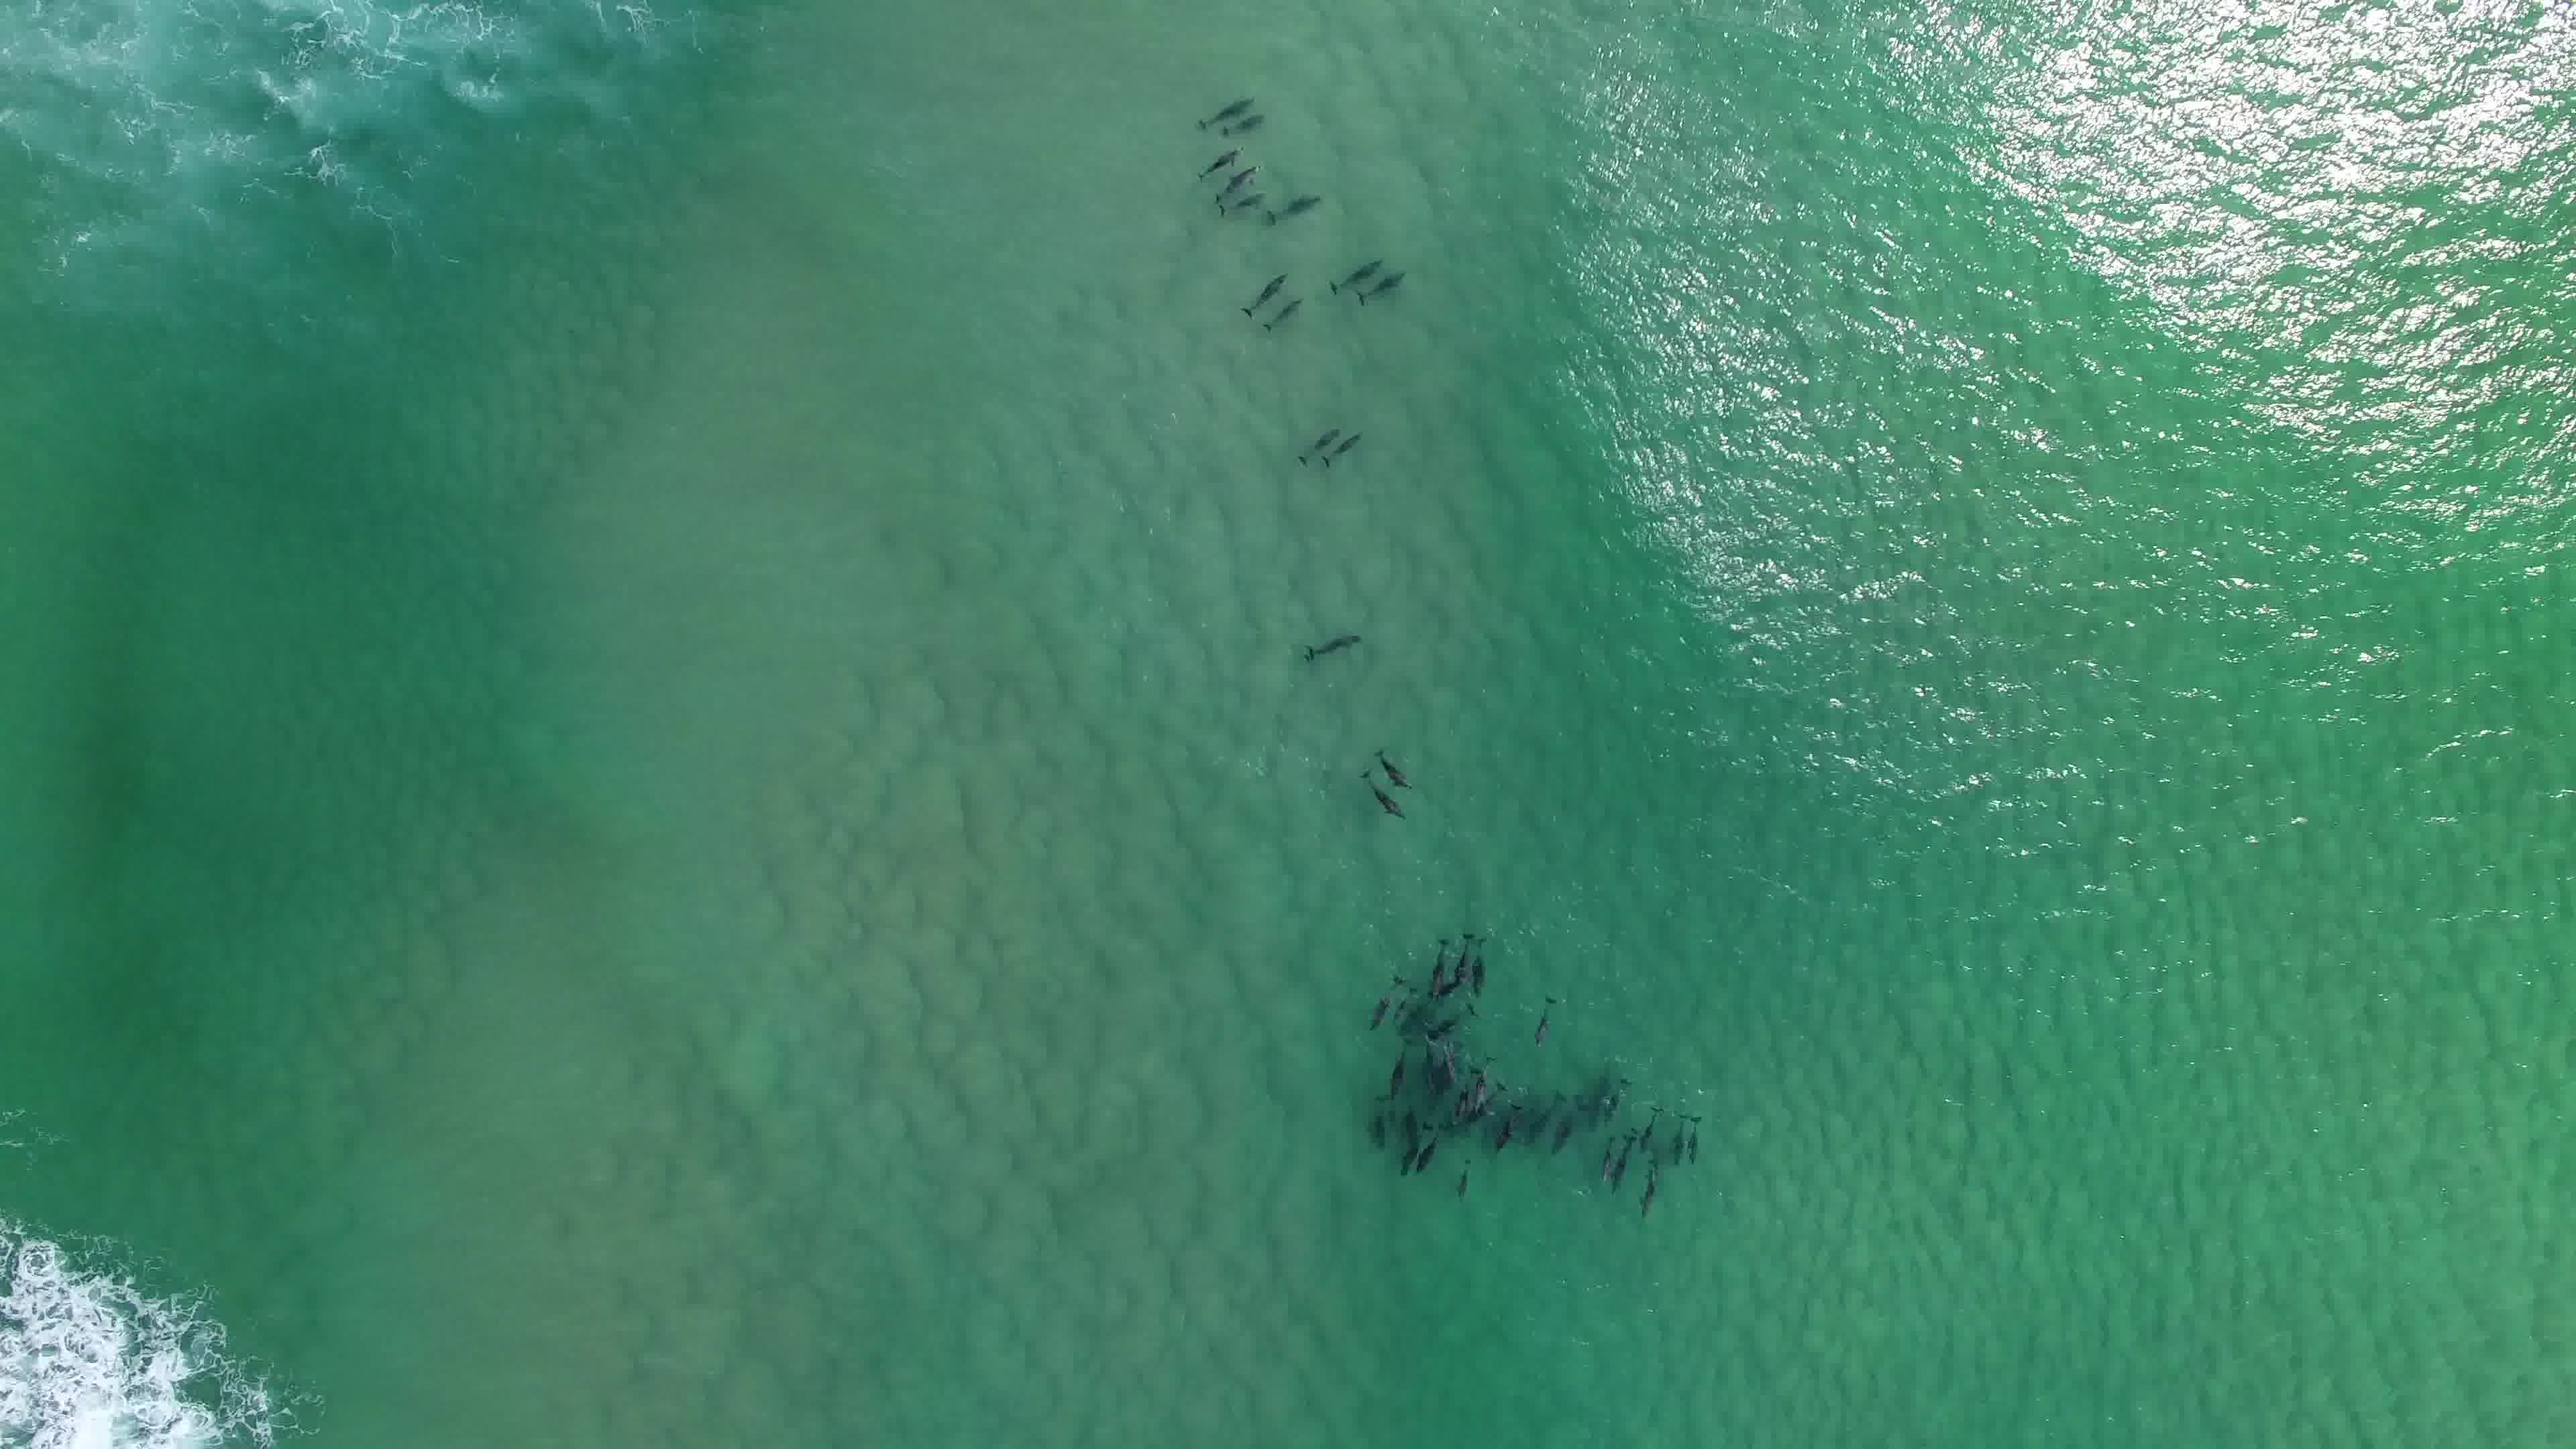dolphin: (1346, 764, 1407, 824), (1300, 617, 1366, 667), (1364, 959, 1408, 1030), (1230, 264, 1293, 311), (1192, 83, 1256, 127), (1208, 156, 1265, 205), (1415, 925, 1453, 1000), (1261, 180, 1329, 221), (1366, 741, 1421, 791), (1421, 1000, 1484, 1040), (1322, 253, 1387, 292), (1424, 1039, 1463, 1102), (1286, 416, 1341, 460), (1527, 985, 1566, 1047), (1467, 1056, 1502, 1123), (1189, 142, 1249, 177), (1614, 1123, 1645, 1189), (1683, 1108, 1716, 1169), (1447, 911, 1472, 991), (1497, 1097, 1527, 1162), (1522, 1085, 1553, 1145), (1254, 294, 1306, 331), (1415, 1122, 1449, 1177), (1316, 430, 1366, 467), (1364, 265, 1408, 306), (1559, 1083, 1582, 1161), (1635, 1150, 1661, 1217), (1384, 1040, 1415, 1093), (1468, 924, 1490, 1000), (1599, 1132, 1626, 1191), (1591, 1074, 1619, 1127), (1447, 1148, 1474, 1205), (1214, 111, 1274, 134), (1638, 1097, 1665, 1148), (1670, 1111, 1697, 1159), (1610, 1076, 1633, 1131)
